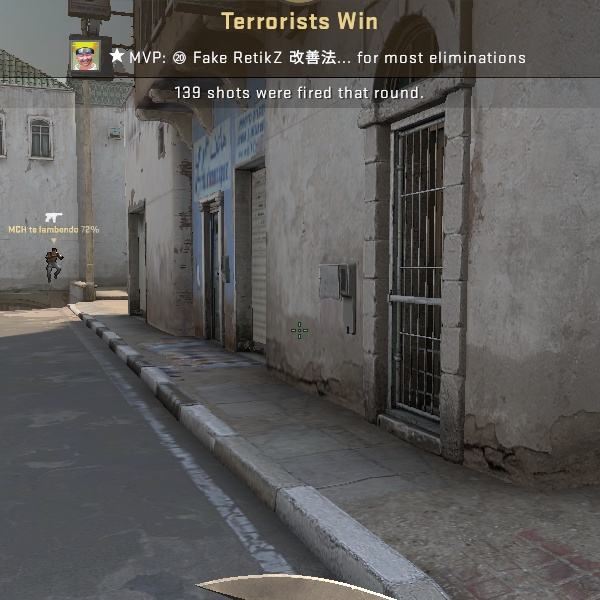t_body: (42, 241, 64, 283)
